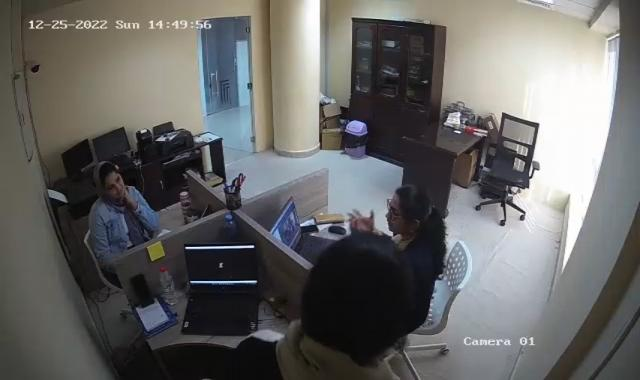no_hairnet: (307, 234, 408, 346), (389, 182, 433, 235), (93, 161, 127, 201)
